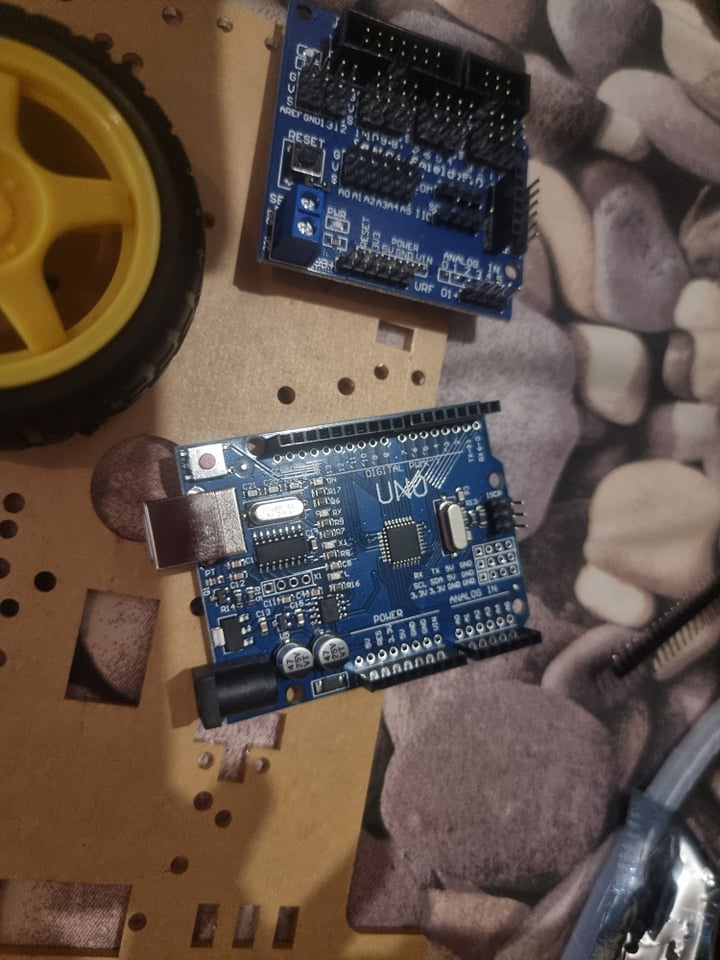5V EXPANSION: (257, 2, 535, 323)
UNO R3: (121, 401, 543, 732)
